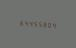eight: (42, 20, 46, 28)
five: (37, 19, 41, 28), (32, 19, 36, 27)
four: (22, 18, 26, 27), (27, 19, 31, 27), (52, 21, 56, 29)
six: (17, 18, 21, 26)
zero: (47, 20, 51, 28)
